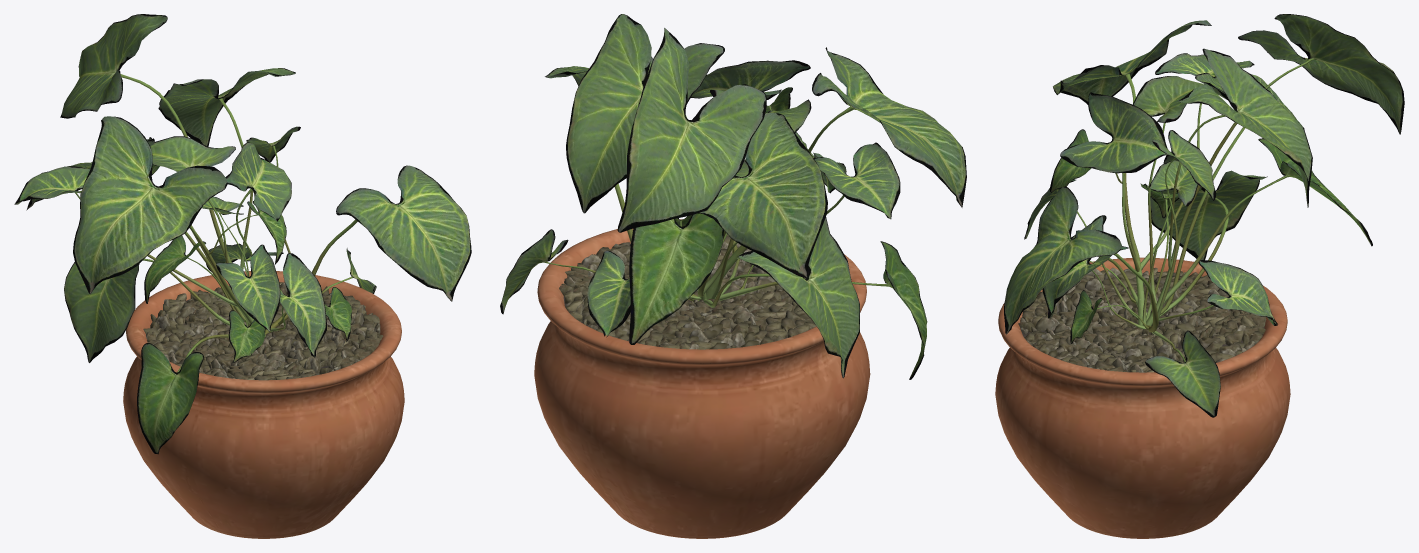
File: potted_plant_02.glb
The picture shows the model from 3 angles, left to right: view 1: azimuth 30°, elevation 25°; view 2: azimuth 150°, elevation 25°; view 3: azimuth 270°, elevation 25°; orthographic projection. The views are drawn at different scales.
Visible parts, largest first — view 1: potted_plant_02_leaves, potted_plant_02_pot; view 2: potted_plant_02_leaves, potted_plant_02_pot; view 3: potted_plant_02_pot, potted_plant_02_leaves.
Boxes of the visible parts, left/top/right/bottom form: potted_plant_02_leaves: left=14, top=14, right=471, bottom=454; potted_plant_02_pot: left=123, top=271, right=404, bottom=538; potted_plant_02_leaves: left=500, top=14, right=966, bottom=379; potted_plant_02_pot: left=534, top=219, right=870, bottom=538; potted_plant_02_pot: left=995, top=257, right=1290, bottom=538; potted_plant_02_leaves: left=1004, top=14, right=1404, bottom=417.
Bounding box in the file's own units: 0.7012 × 0.8412 × 0.6574.
Materials: 2 (2 with a texture image).
